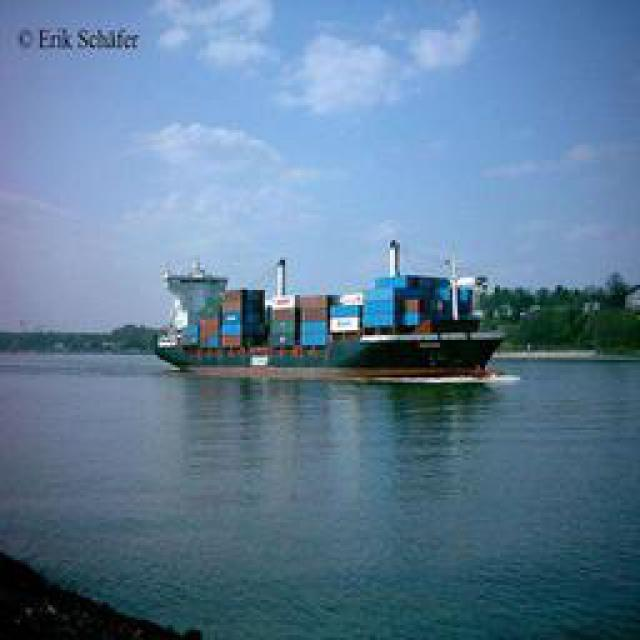Ship: (154, 236, 509, 374)
